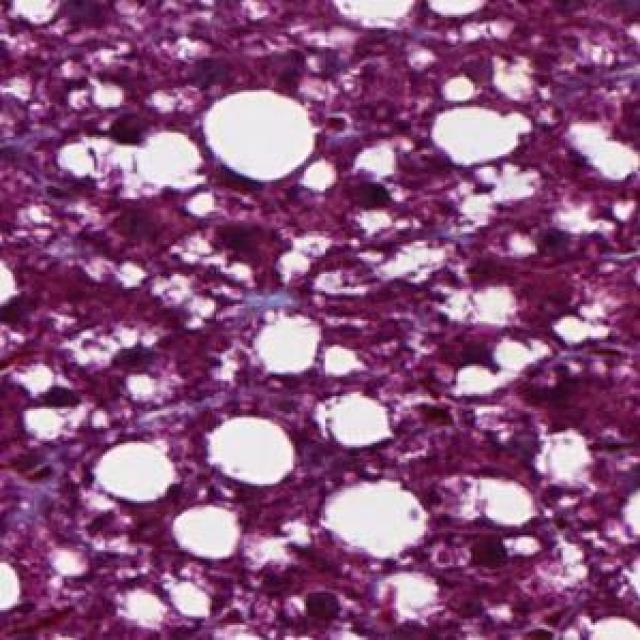steatosis: (205, 88, 317, 180), (325, 477, 424, 550), (203, 415, 302, 484), (96, 441, 174, 505), (171, 512, 242, 552)
